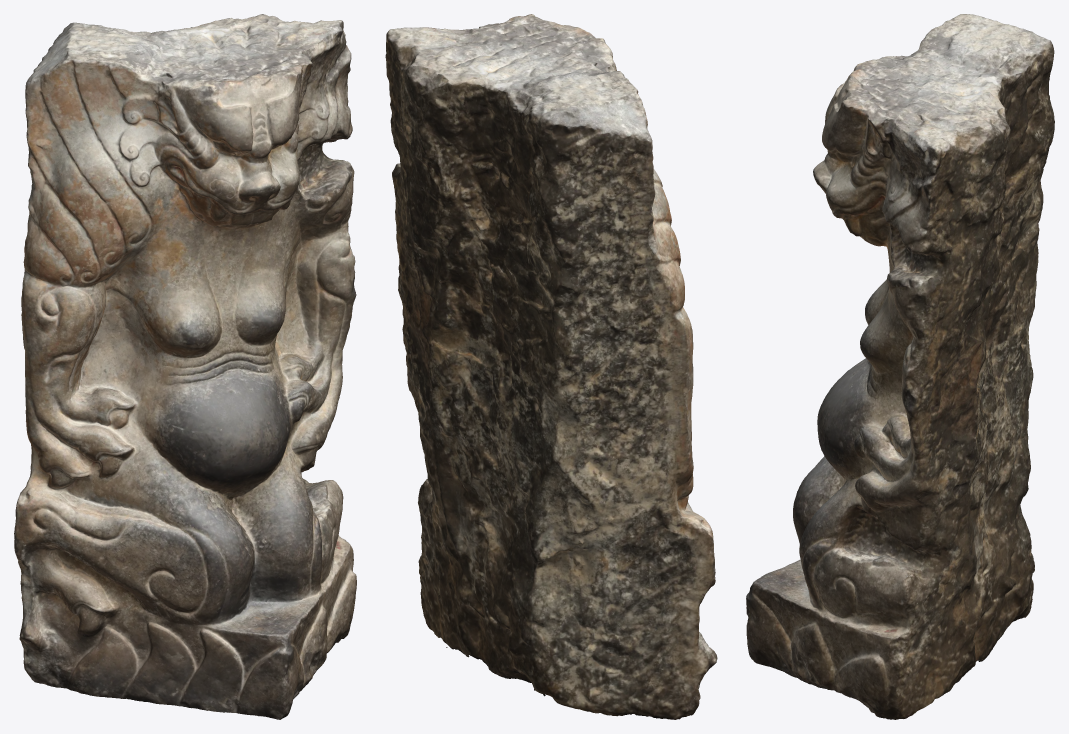
The model's file is kneeling-winged-monster.glb.
3 views of the same model, side by side, from view 1: azimuth 30°, elevation 25°; view 2: azimuth 150°, elevation 25°; view 3: azimuth 270°, elevation 25° (orthographic). The views are drawn at different scales.
Bounding box in the file's own units: 492 × 869 × 407.
1 material, 1 textured.
